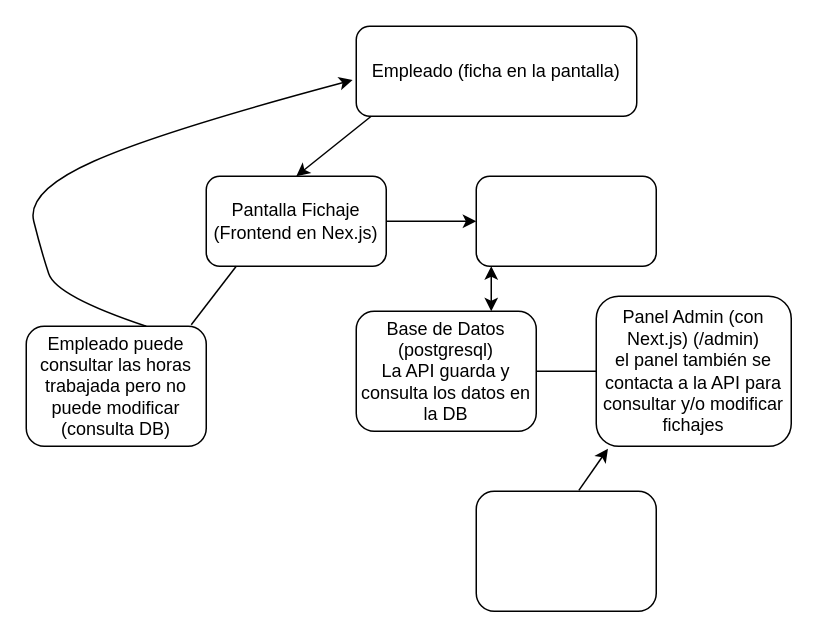
The diagram is 818 pixels wide and 638 high, and some of its shapes have lost their labels. Each missing label, with the centre of its shape:
Administrador (puede acceder al panel de administración y consultar los datos): point (565, 550)
Pantalla llama a API interna de Next.js (/api/fichajes): point (565, 220)
